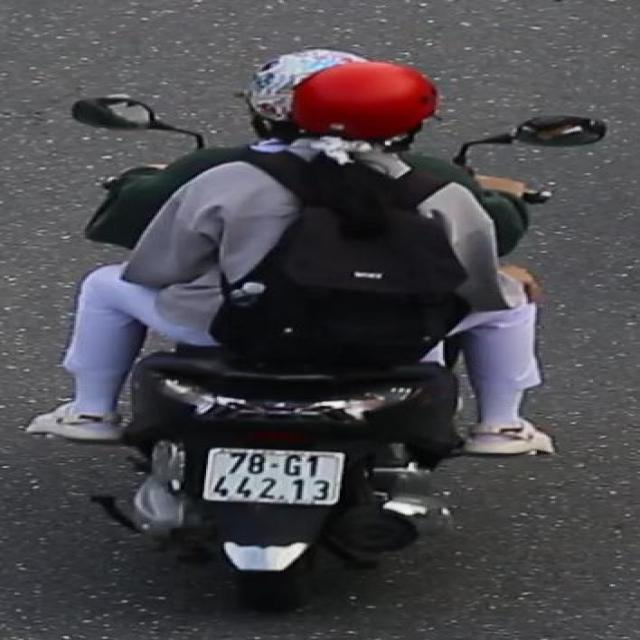LP: (199, 443, 351, 512)
helmet: (233, 55, 454, 168)
